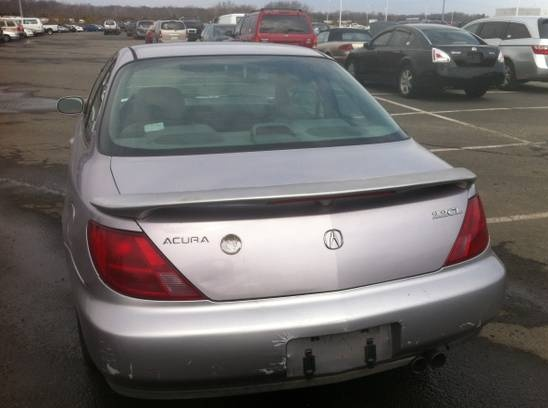acura: (42, 46, 516, 398)
